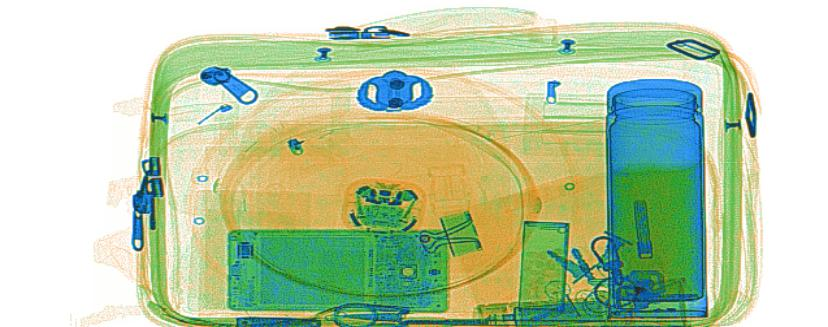battery: (511, 299, 613, 323)
scissors: (316, 299, 412, 320)
